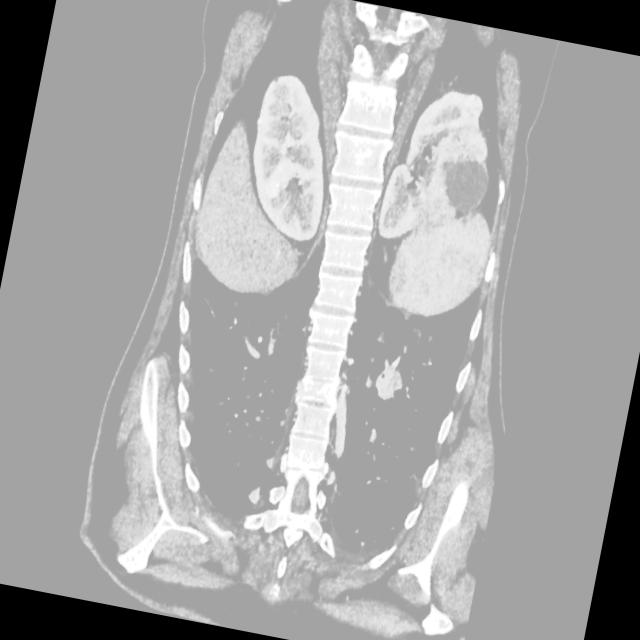TUMOR: (108, 45, 582, 391)
